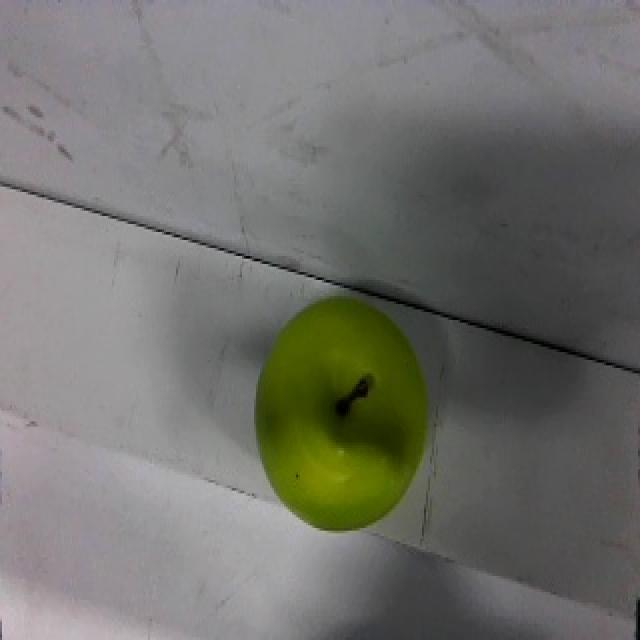apple: (252, 288, 431, 536)
